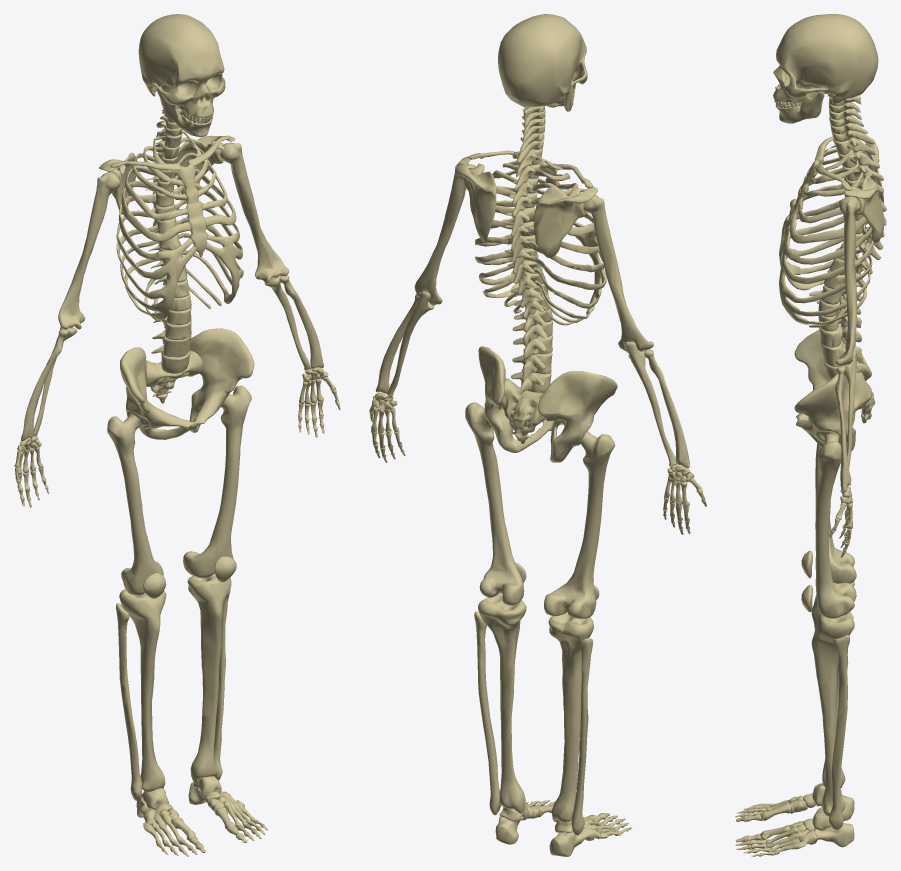
The model's file is skeleton-mother.glb.
The picture shows the model from 3 angles, left to right: view 1: azimuth 30°, elevation 25°; view 2: azimuth 150°, elevation 25°; view 3: azimuth 270°, elevation 25°; orthographic projection. The views are drawn at different scales.
Parts seen in each view (by area): view 1: Object_2; view 2: Object_2; view 3: Object_2.
Boxes of the visible parts, x1,y1,x2,y2 form: Object_2: (14,14,340,856); Object_2: (369,14,706,856); Object_2: (735,14,886,856).
Size of the model in its own units: 6.73 by 15.87 by 2.68.
